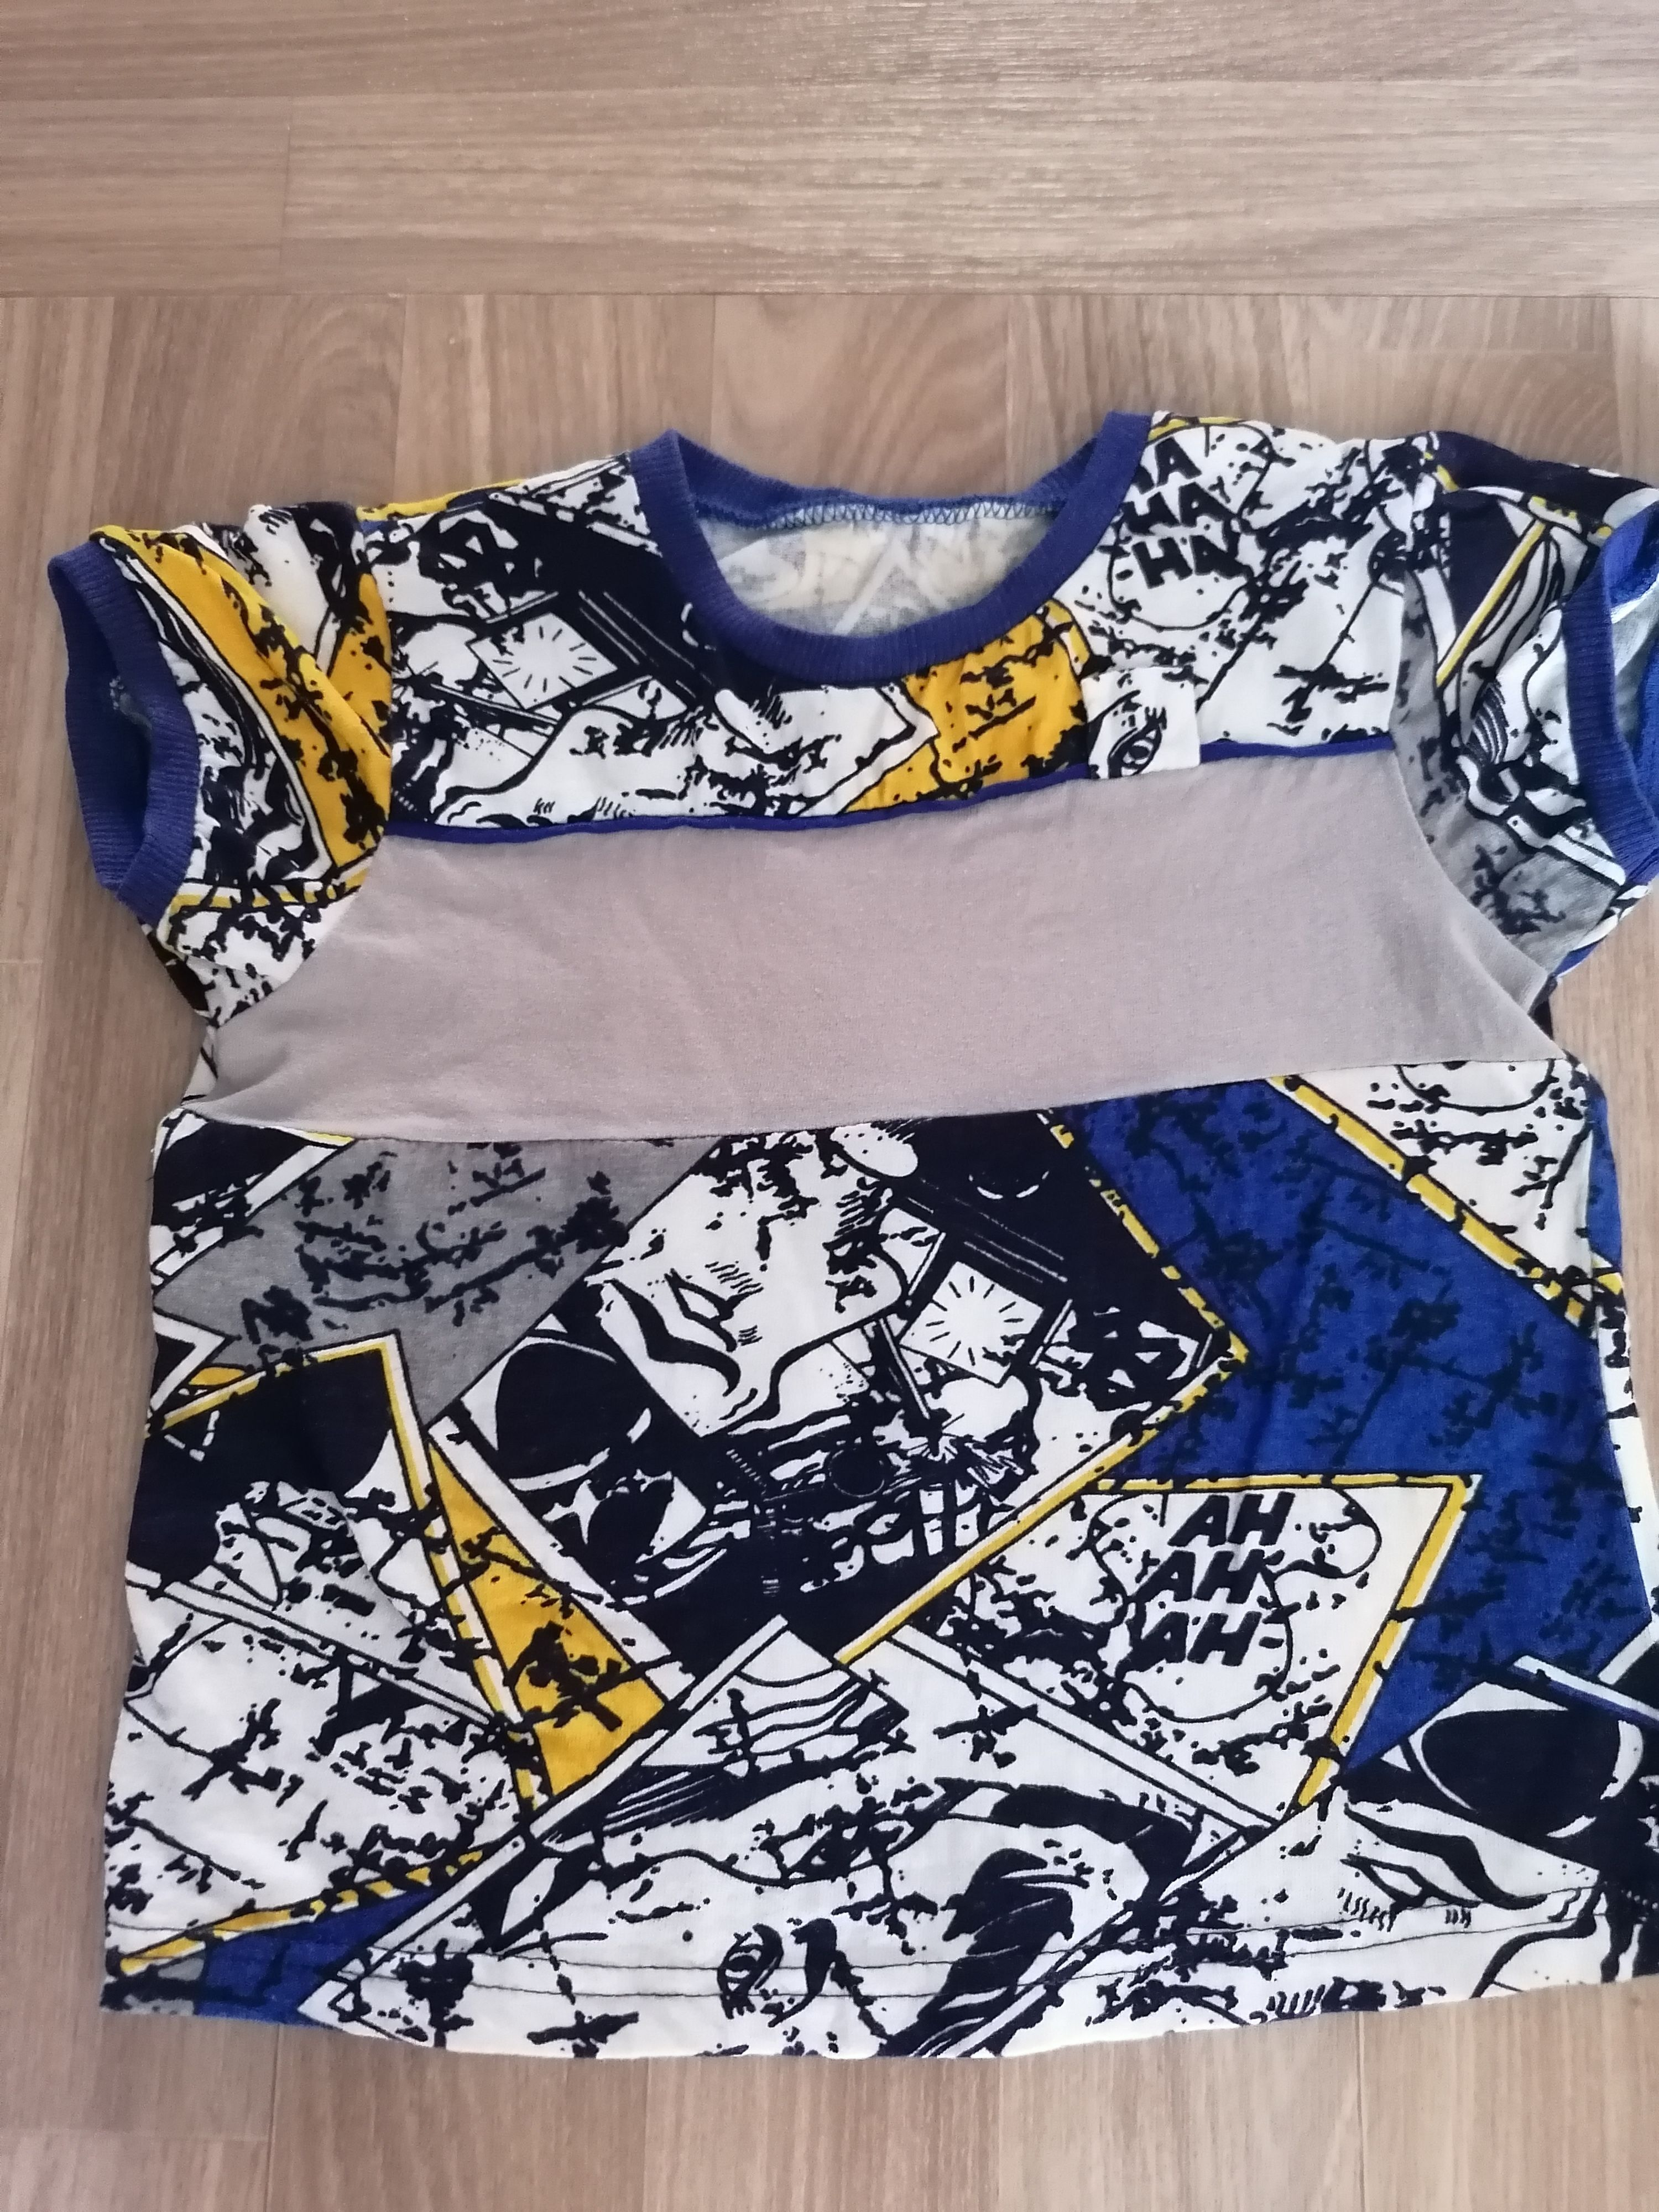clothes: (35, 397, 1659, 2019)
